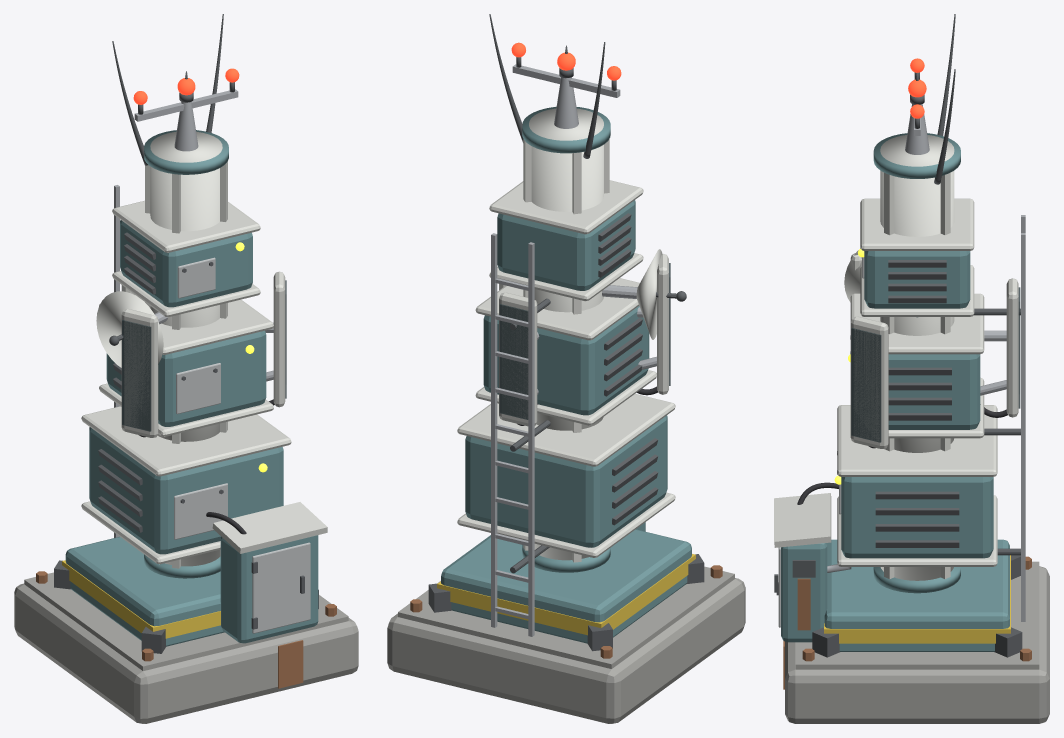
Rendered from signal-relay-pylon.glb.
3 renders of one model, left to right at view 1: azimuth 30°, elevation 25°; view 2: azimuth 150°, elevation 25°; view 3: azimuth 270°, elevation 25°, orthographic. The views are drawn at different scales.
Parts seen in each view (by area): view 1: BasePlinth, Housing_0, Pedestal, MainColumn, Housing_1, Housing_0_TopRim, BaseCap, Housing_2, AntennaPanel_1, MaintBox, MaintDoor, MaintBoxCap (+20 smaller); view 2: BasePlinth, Housing_0, Pedestal, Housing_1, BaseCap, MainColumn, Housing_2, Housing_0_TopRim, AntennaPanel_0, HazardBand, Housing_2_TopRim, Housing_1_TopRim (+15 smaller); view 3: BasePlinth, Pedestal, Housing_0, MainColumn, BaseCap, Housing_0_TopRim, Housing_1, AntennaPanel_2, Housing_2, Housing_2_TopRim, PanelFace_2, MaintBox (+31 smaller).
Part boxes in pixels (bbox=[...]): BasePlinth: bbox=[14, 583, 358, 723]; Housing_0: bbox=[89, 427, 283, 554]; Pedestal: bbox=[65, 536, 224, 646]; MainColumn: bbox=[150, 131, 222, 566]; Housing_1: bbox=[106, 330, 266, 426]; Housing_0_TopRim: bbox=[81, 406, 291, 476]; BaseCap: bbox=[24, 572, 348, 670]; Housing_2: bbox=[120, 220, 252, 307]; AntennaPanel_1: bbox=[121, 309, 158, 437]; MaintBox: bbox=[220, 535, 318, 643]; MaintDoor: bbox=[252, 542, 310, 633]; MaintBoxCap: bbox=[212, 502, 327, 553]; BasePlinth: bbox=[387, 578, 745, 723]; Housing_0: bbox=[465, 415, 667, 547]; Pedestal: bbox=[441, 529, 691, 643]; Housing_1: bbox=[483, 306, 649, 415]; BaseCap: bbox=[398, 566, 734, 668]; MainColumn: bbox=[529, 108, 603, 560]; Housing_2: bbox=[497, 200, 635, 290]; Housing_0_TopRim: bbox=[457, 393, 675, 466]; AntennaPanel_0: bbox=[499, 292, 537, 426]; HazardBand: bbox=[437, 554, 695, 635]; Housing_2_TopRim: bbox=[489, 180, 643, 234]; Housing_1_TopRim: bbox=[475, 278, 639, 340]; BasePlinth: bbox=[785, 566, 1049, 723]; Pedestal: bbox=[824, 539, 1009, 651]; Housing_0: bbox=[841, 477, 993, 558]; MainColumn: bbox=[880, 135, 954, 580]; BaseCap: bbox=[795, 561, 1039, 669]; Housing_0_TopRim: bbox=[837, 405, 997, 476]; Housing_1: bbox=[888, 354, 980, 429]; AntennaPanel_2: bbox=[850, 316, 888, 448]; Housing_2: bbox=[864, 251, 970, 308]; Housing_2_TopRim: bbox=[860, 198, 974, 250]; PanelFace_2: bbox=[851, 328, 881, 442]; MaintBox: bbox=[781, 543, 827, 642].
Size of the model in its own units: 0.7618 by 2 by 0.7928.
